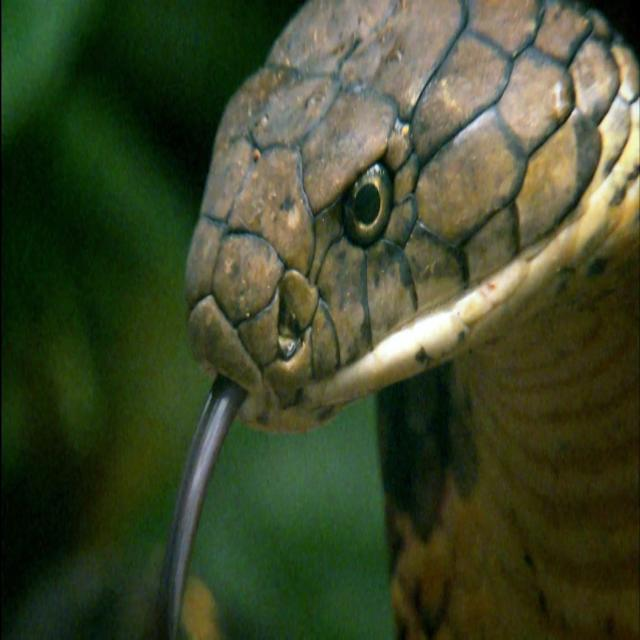Snake: (156, 0, 638, 638)
